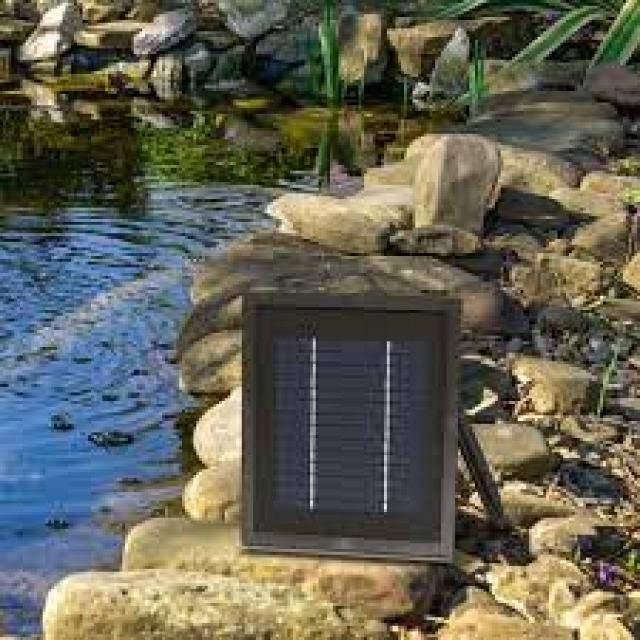no faulty: (262, 331, 430, 518)
